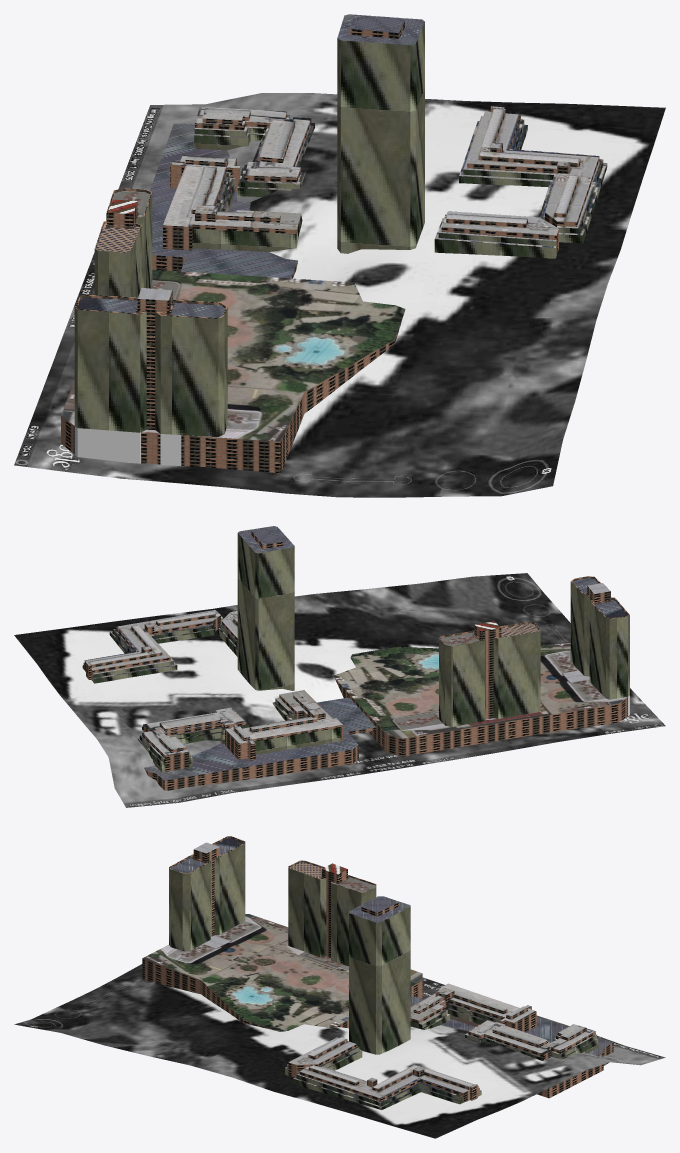
The model's file is MultipleBuildings.fbx.
3 renders of one model, top to bottom at view 1: azimuth 30°, elevation 25°; view 2: azimuth 150°, elevation 25°; view 3: azimuth 270°, elevation 25°, orthographic. The views are drawn at different scales.
Visible parts, largest first — view 1: Model, Google_Earth_Terrain; view 2: Model, Google_Earth_Terrain; view 3: Model, Google_Earth_Terrain.
Part boxes in pixels (x1,y1,x2,y2): Model: (61,14,607,473); Google_Earth_Terrain: (14,93,665,497); Model: (82,526,629,790); Google_Earth_Terrain: (14,573,665,807); Model: (142,836,613,1109); Google_Earth_Terrain: (14,964,665,1138).
Bounding box in the file's own units: 17037 × 5176 × 18187.
